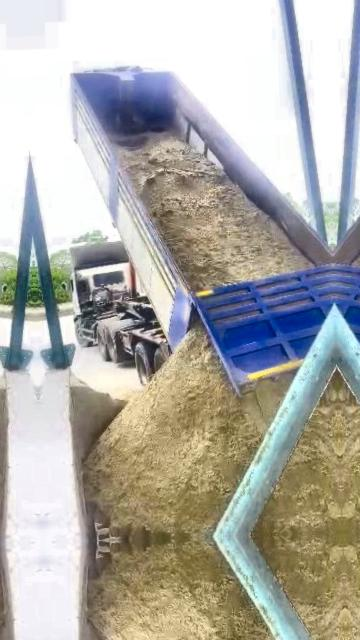sand: (85, 328, 287, 539), (119, 133, 311, 290), (255, 376, 342, 534), (69, 374, 125, 475)
